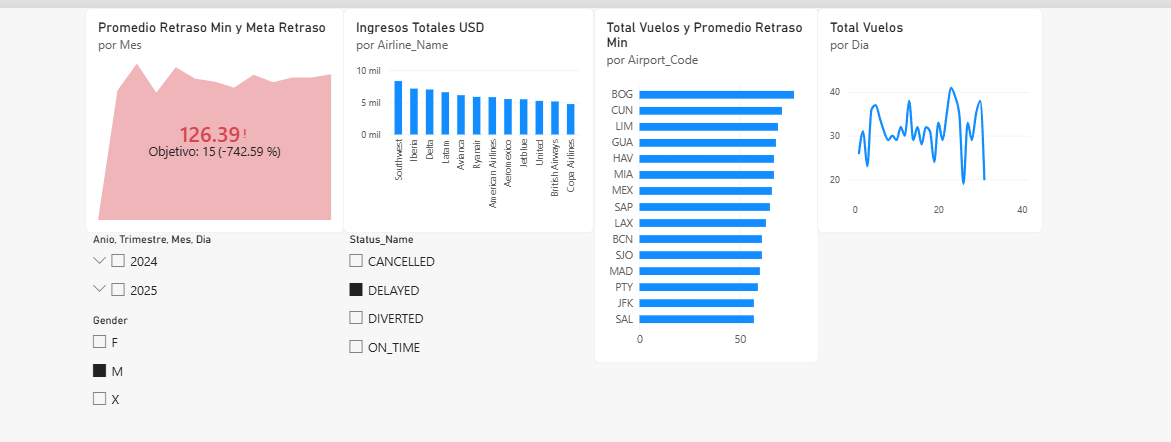

The page's visual inventory and layout, read from the dashboard file:
{"tool":"powerbi","page":{"name":"Página 1","canvas":[1920,1080],"ordinal":0},"visuals":[{"type":"kpi","fields":{"Goal":["_Medidas.Meta Retraso"],"Indicator":["_Medidas.Promedio Retraso Min"],"TrendLine":["Dim_Tiempo.Anio Jerarquía.Mes"]},"box":[293.3,0,345,300],"z":0},{"type":"slicer","fields":{"Values":["Dim_Tiempo.Anio Jerarquía.Anio","Dim_Tiempo.Anio Jerarquía.Trimestre","Dim_Tiempo.Anio Jerarquía.Mes","Dim_Tiempo.Anio Jerarquía.Dia"]},"box":[295,300,345,107.5],"z":1000},{"type":"actionButton","box":[0,0,100,40],"z":2000},{"type":"slicer","fields":{"Values":["Dim_Estado_Vuelo.Status_Name"]},"box":[637.5,300,300,175],"z":3000},{"type":"slicer","fields":{"Values":["Dim_Pasajero.Gender"]},"box":[295,407.5,300,132.5],"z":4000},{"type":"columnChart","fields":{"Category":["Dim_Aerolinea.Airline_Name"],"Y":["_Medidas.Ingresos Totales USD"]},"box":[638,0,334,300],"z":5000},{"type":"barChart","fields":{"Category":["Dim_Aeropuerto.Airport_Code"],"Y":["_Medidas.Total Vuelos"]},"box":[971.7,0,300,473.3],"z":6000},{"type":"lineChart","fields":{"Category":["Dim_Tiempo.Anio Jerarquía.Anio","Dim_Tiempo.Anio Jerarquía.Trimestre","Dim_Tiempo.Anio Jerarquía.Mes","Dim_Tiempo.Anio Jerarquía.Dia"],"Y":["_Medidas.Total Vuelos"]},"box":[1270,0,300,300],"z":6001}]}

Visuals, with their boxes on the page's 1920x1080 design canvas (x1, y1, x2, y2). These are canvas units, not pixel positions in the 1171x442 screenshot, which may show the page scaled, cropped or inside an application window:
kpi - _Medidas.Meta Retraso x _Medidas.Promedio Retraso Min: left=293, top=0, right=638, bottom=300
slicer - Dim_Tiempo.Anio Jerarquía.Anio x Dim_Tiempo.Anio Jerarquía.Trimestre: left=295, top=300, right=640, bottom=408
actionButton: left=0, top=0, right=100, bottom=40
slicer - Dim_Estado_Vuelo.Status_Name: left=638, top=300, right=938, bottom=475
slicer - Dim_Pasajero.Gender: left=295, top=408, right=595, bottom=540
columnChart - Dim_Aerolinea.Airline_Name x _Medidas.Ingresos Totales USD: left=638, top=0, right=972, bottom=300
barChart - Dim_Aeropuerto.Airport_Code x _Medidas.Total Vuelos: left=972, top=0, right=1272, bottom=473
lineChart - Dim_Tiempo.Anio Jerarquía.Anio x Dim_Tiempo.Anio Jerarquía.Trimestre: left=1270, top=0, right=1570, bottom=300
